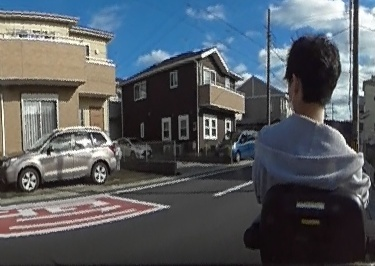person: (258, 35, 366, 234)
